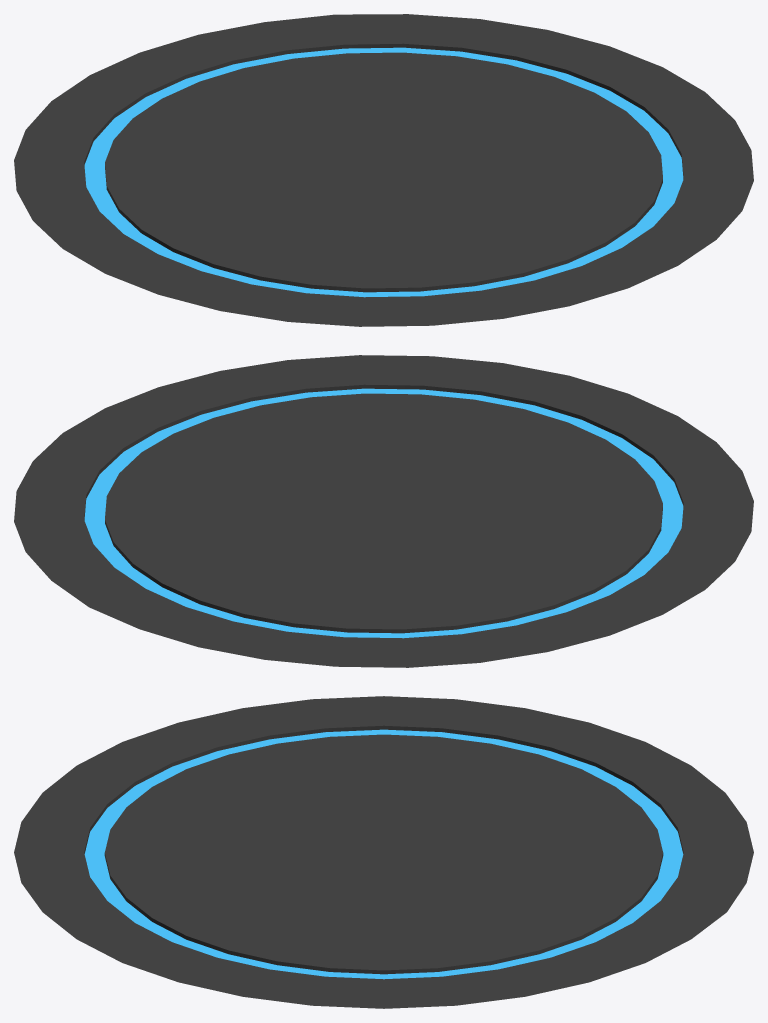
File: Holotable_Floor.fbx
3 views of the same model, one above another, from view 1: azimuth 30°, elevation 25°; view 2: azimuth 150°, elevation 25°; view 3: azimuth 270°, elevation 25° (orthographic).
Visible parts, largest first — view 1: HoloTable_Base; view 2: HoloTable_Base; view 3: HoloTable_Base.
Part boxes in pixels (bbox=[...]): HoloTable_Base: bbox=[14, 14, 753, 326]; HoloTable_Base: bbox=[14, 355, 753, 667]; HoloTable_Base: bbox=[14, 696, 753, 1008].
Size of the model in its own units: 1.36 by 0.0078 by 1.36.
